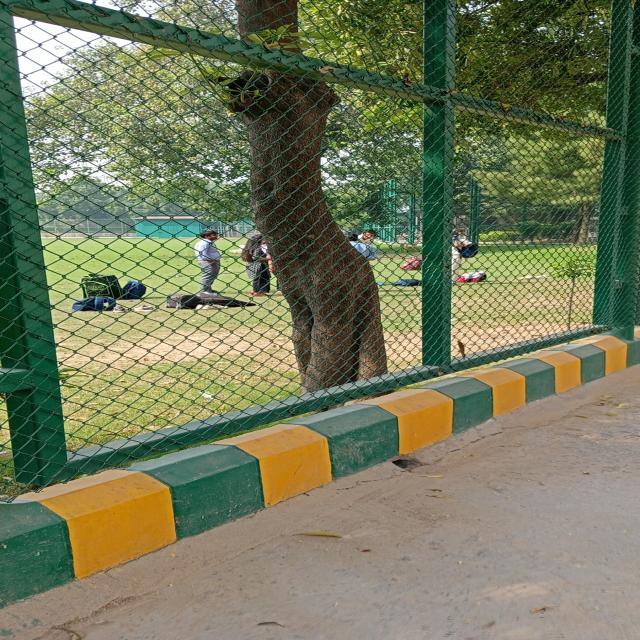unsafe: (192, 231, 230, 296), (241, 235, 277, 296)
